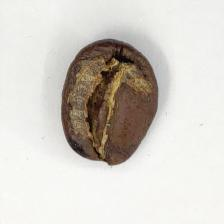NG: (62, 49, 151, 162)
